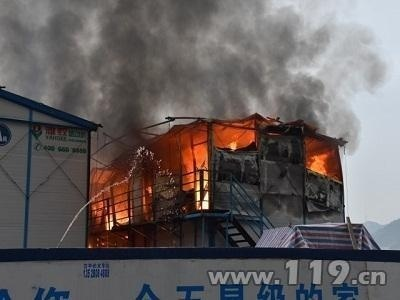fire: (185, 147, 212, 210), (307, 145, 332, 172)
